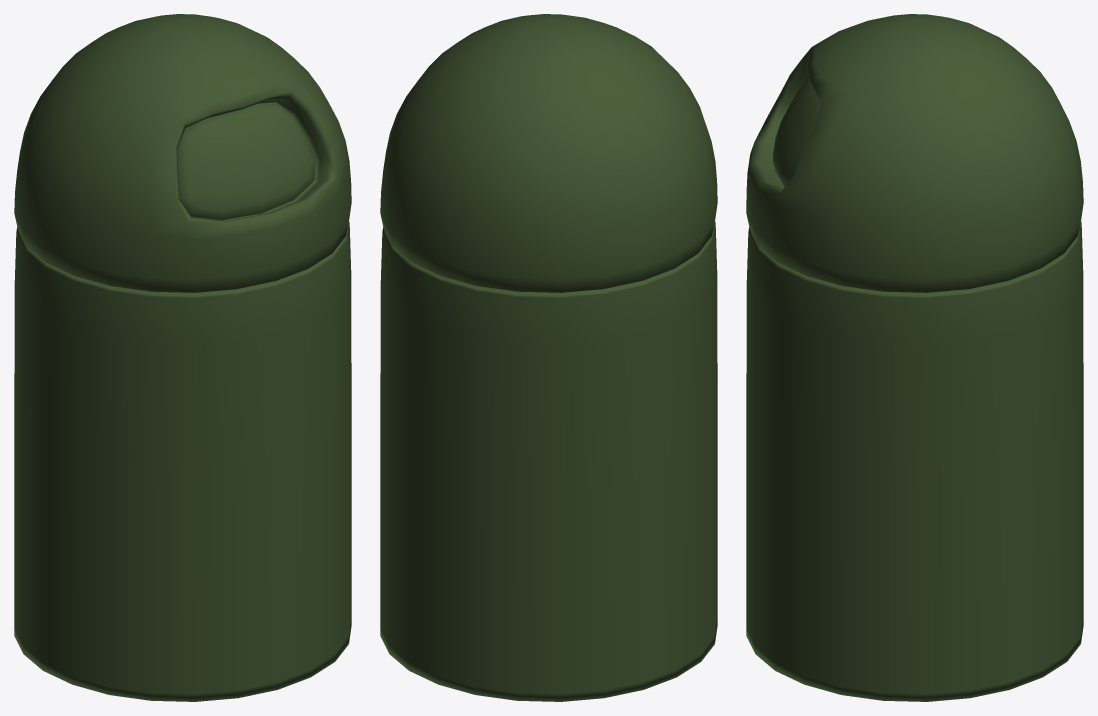
File: Trashcan.fbx
The picture shows the model from 3 angles, left to right: view 1: azimuth 30°, elevation 25°; view 2: azimuth 150°, elevation 25°; view 3: azimuth 270°, elevation 25°; orthographic projection.
Parts seen in each view (by area): view 1: pSphere1; view 2: pSphere1; view 3: pSphere1.
Part boxes in pixels (<box>): pSphere1: <box>14,14,351,701</box>; pSphere1: <box>380,14,717,701</box>; pSphere1: <box>746,14,1083,701</box>.
Size of the model in its own units: 1.36 by 2.72 by 1.36.
